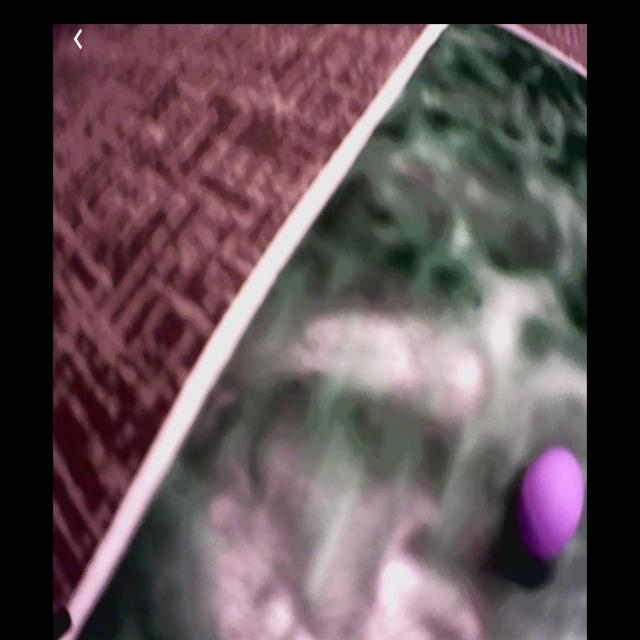ball: (517, 448, 586, 557)
